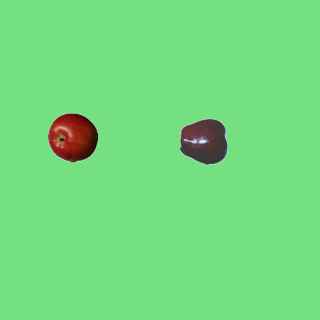Apple Braeburn: (47, 112, 97, 162)
Apple Red Delicious: (179, 116, 229, 166)
